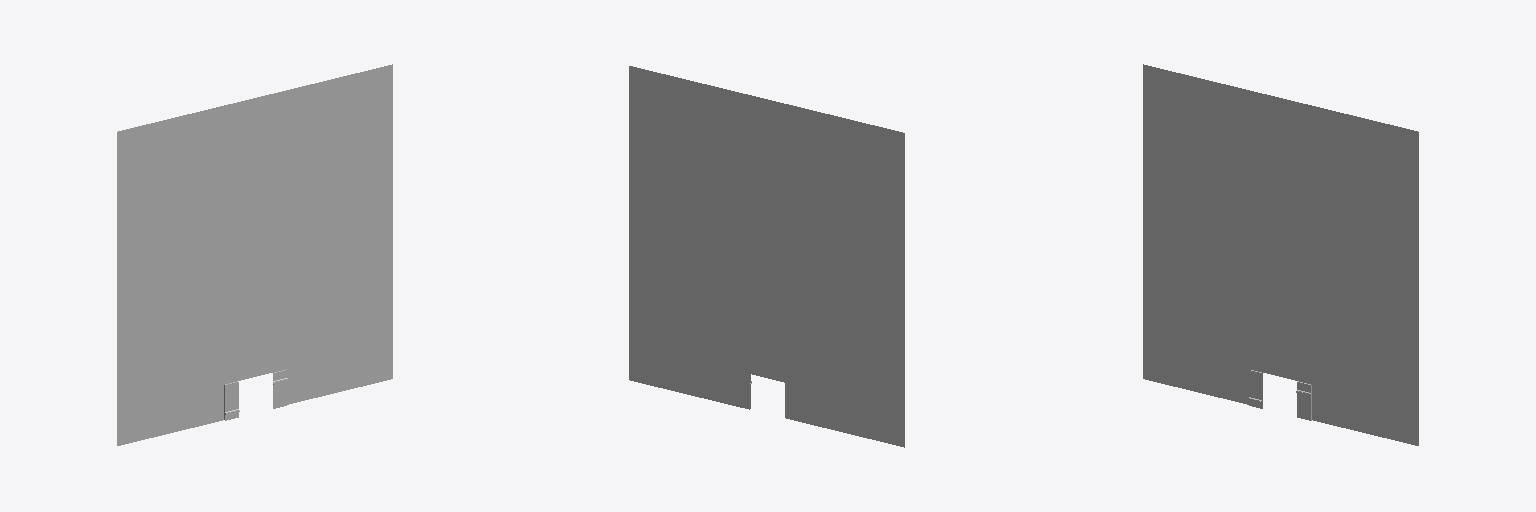
The model's file is StartingAreaFrontWall.obj.
3 renders of one model, left to right at view 1: azimuth 30°, elevation 25°; view 2: azimuth 150°, elevation 25°; view 3: azimuth 330°, elevation 25°, orthographic.
Parts seen in each view (by area): view 1: Plane.008; view 2: Plane.008; view 3: Plane.008.
Boxes of the visible parts, <box> form: Plane.008: <box>117,64,392,445</box>; Plane.008: <box>629,66,904,447</box>; Plane.008: <box>1143,64,1418,445</box>.
Bounding box in the file's own units: 62.19 × 67.86 × 0.6879.